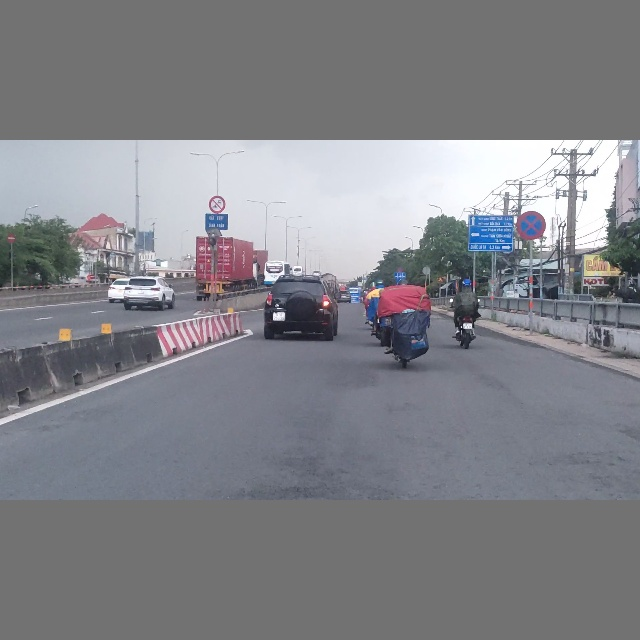P.102: (8, 234, 15, 243)
P.111: (209, 196, 226, 213)
P.130: (516, 210, 546, 240)
